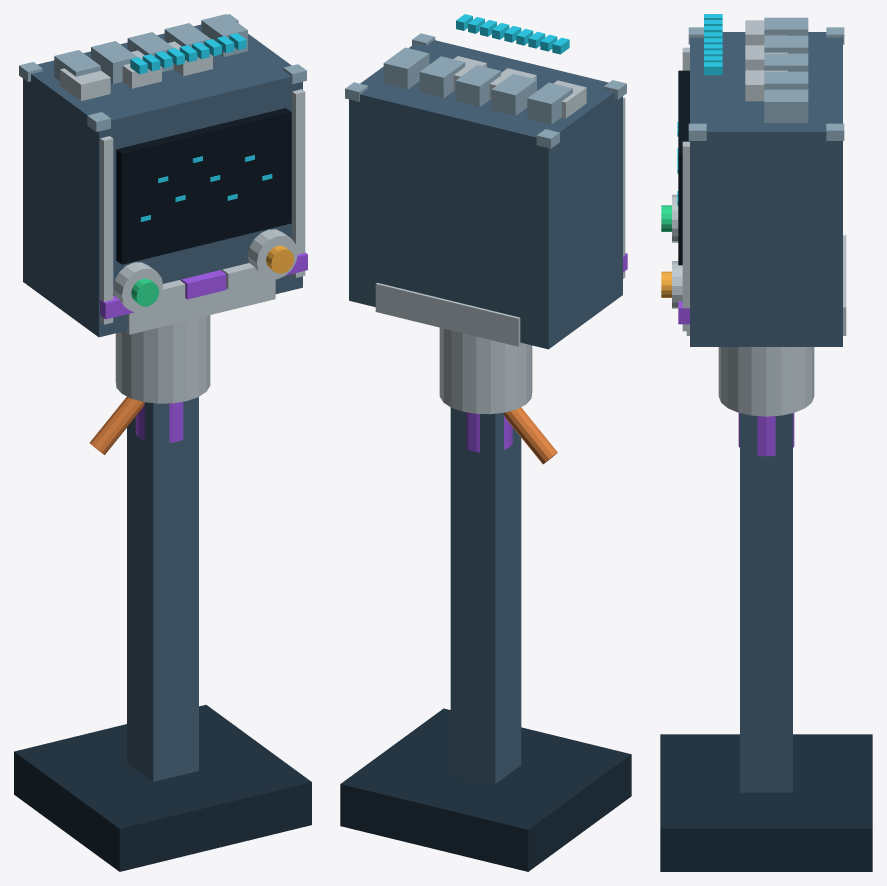
File: 08_L74_ResistThicknessMeasurementSensor.fbx
The picture shows the model from 3 angles, left to right: view 1: azimuth 30°, elevation 25°; view 2: azimuth 150°, elevation 25°; view 3: azimuth 270°, elevation 25°; orthographic projection. The views are drawn at different scales.
Visible parts, largest first — view 1: ResistThicknessMeasurementSensor, ResistThicknessMeasurementSensor_Part_0003, ResistThicknessMeasurementSensor_Part_0010, ResistThicknessMeasurementSensor_Part_0039, ResistThicknessMeasurementSensor_Part_0008, ResistThicknessMeasurementSensor_Part_0009, ResistThicknessMeasurementSensor_Part_0022, ResistThicknessMeasurementSensor_Part_0020, ResistThicknessMeasurementSensor_Part_0038, ResistThicknessMeasurementSensor_Part_0024, ResistThicknessMeasurementSensor_Part_0028, ResistThicknessMeasurementSensor_Part_0031 (+9 smaller); view 2: ResistThicknessMeasurementSensor_Part_0003, ResistThicknessMeasurementSensor, ResistThicknessMeasurementSensor_Part_0039, ResistThicknessMeasurementSensor_Part_0031, ResistThicknessMeasurementSensor_Part_0028, ResistThicknessMeasurementSensor_Part_0030, ResistThicknessMeasurementSensor_Part_0029, ResistThicknessMeasurementSensor_Part_0027, ResistThicknessMeasurementSensor_Part_0038, ResistThicknessMeasurementSensor_Part_0040, ResistThicknessMeasurementSensor_Part_0024; view 3: ResistThicknessMeasurementSensor, ResistThicknessMeasurementSensor_Part_0003, ResistThicknessMeasurementSensor_Part_0039, ResistThicknessMeasurementSensor_Part_0031, ResistThicknessMeasurementSensor_Part_0010, ResistThicknessMeasurementSensor_Part_0009, ResistThicknessMeasurementSensor_Part_0040, ResistThicknessMeasurementSensor_Part_0030, ResistThicknessMeasurementSensor_Part_0027, ResistThicknessMeasurementSensor_Part_0028, ResistThicknessMeasurementSensor_Part_0029, ResistThicknessMeasurementSensor_Part_0026 (+3 smaller).
Part boxes in pixels (x1,y1,x2,y2): ResistThicknessMeasurementSensor: [14, 33, 311, 871]; ResistThicknessMeasurementSensor_Part_0003: [23, 24, 302, 337]; ResistThicknessMeasurementSensor_Part_0010: [116, 108, 291, 264]; ResistThicknessMeasurementSensor_Part_0039: [115, 315, 210, 403]; ResistThicknessMeasurementSensor_Part_0008: [100, 136, 113, 324]; ResistThicknessMeasurementSensor_Part_0009: [292, 89, 305, 277]; ResistThicknessMeasurementSensor_Part_0022: [248, 229, 297, 279]; ResistThicknessMeasurementSensor_Part_0020: [113, 262, 163, 312]; ResistThicknessMeasurementSensor_Part_0038: [89, 396, 144, 454]; ResistThicknessMeasurementSensor_Part_0024: [60, 68, 110, 100]; ResistThicknessMeasurementSensor_Part_0028: [91, 41, 137, 83]; ResistThicknessMeasurementSensor_Part_0031: [201, 14, 247, 57]; ResistThicknessMeasurementSensor_Part_0003: [349, 40, 622, 349]; ResistThicknessMeasurementSensor: [340, 14, 631, 871]; ResistThicknessMeasurementSensor_Part_0039: [439, 327, 532, 414]; ResistThicknessMeasurementSensor_Part_0031: [383, 47, 429, 89]; ResistThicknessMeasurementSensor_Part_0028: [491, 74, 536, 115]; ResistThicknessMeasurementSensor_Part_0030: [419, 56, 465, 98]; ResistThicknessMeasurementSensor_Part_0029: [455, 65, 500, 107]; ResistThicknessMeasurementSensor_Part_0027: [527, 82, 572, 124]; ResistThicknessMeasurementSensor_Part_0038: [504, 407, 557, 464]; ResistThicknessMeasurementSensor_Part_0040: [466, 412, 512, 452]; ResistThicknessMeasurementSensor_Part_0024: [553, 80, 586, 118]; ResistThicknessMeasurementSensor: [660, 14, 872, 871]; ResistThicknessMeasurementSensor_Part_0003: [690, 32, 842, 346]; ResistThicknessMeasurementSensor_Part_0039: [718, 347, 814, 416]; ResistThicknessMeasurementSensor_Part_0031: [764, 89, 808, 122]; ResistThicknessMeasurementSensor_Part_0010: [678, 70, 689, 265]; ResistThicknessMeasurementSensor_Part_0009: [682, 141, 689, 331]; ResistThicknessMeasurementSensor_Part_0040: [738, 413, 794, 456]; ResistThicknessMeasurementSensor_Part_0030: [764, 71, 808, 89]; ResistThicknessMeasurementSensor_Part_0027: [764, 17, 808, 35]; ResistThicknessMeasurementSensor_Part_0028: [764, 35, 808, 53]; ResistThicknessMeasurementSensor_Part_0029: [764, 53, 808, 71]; ResistThicknessMeasurementSensor_Part_0026: [745, 70, 787, 101].
Size of the model in its own units: 46.05 by 163 by 40.
